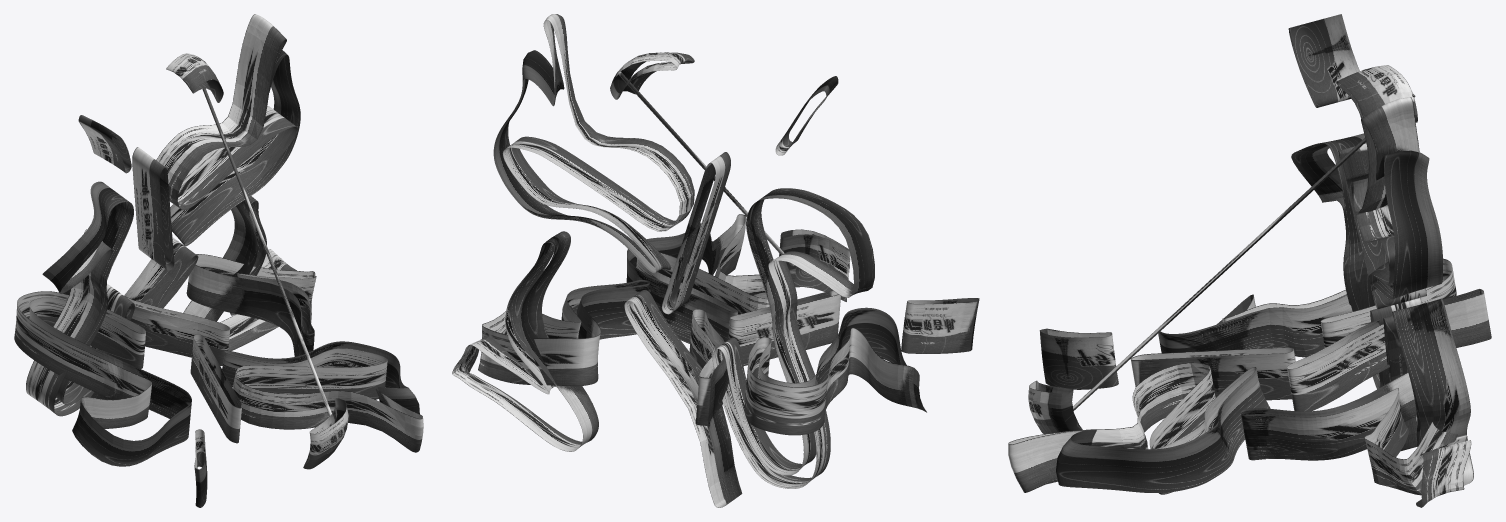
The model's file is talktest.fbx.
3 renders of one model, left to right at view 1: azimuth 30°, elevation 25°; view 2: azimuth 150°, elevation 25°; view 3: azimuth 270°, elevation 25°, orthographic. The views are drawn at different scales.
Visible parts, largest first — view 1: 说_5, 说_3, Cylinder; view 2: 说_3, 说_5, Cylinder; view 3: 说_5, 说_3, Cylinder.
Part boxes in pixels (x1,y1,x2,y2): 说_5: (14, 254, 423, 507); 说_3: (26, 14, 300, 416); Cylinder: (202, 88, 331, 415); 说_3: (452, 14, 874, 507); 说_5: (478, 214, 979, 435); Cylinder: (618, 72, 794, 266); 说_5: (1008, 258, 1491, 495); 说_3: (1288, 14, 1473, 507); Cylinder: (1073, 94, 1415, 410).
Bounding box in the file's own units: 168 × 190 × 188.
Materials: 1 (1 with a texture image).
